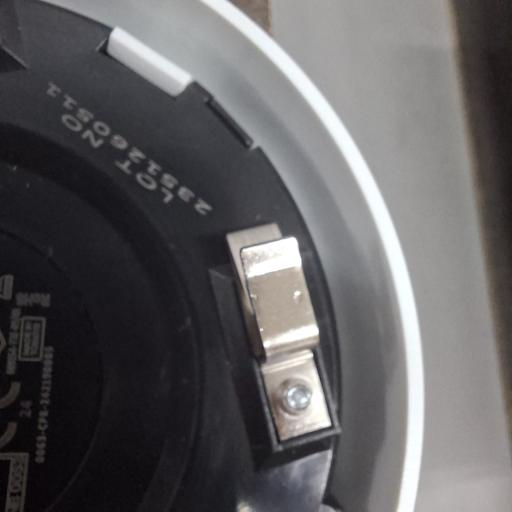yayli: (225, 221, 336, 447)
